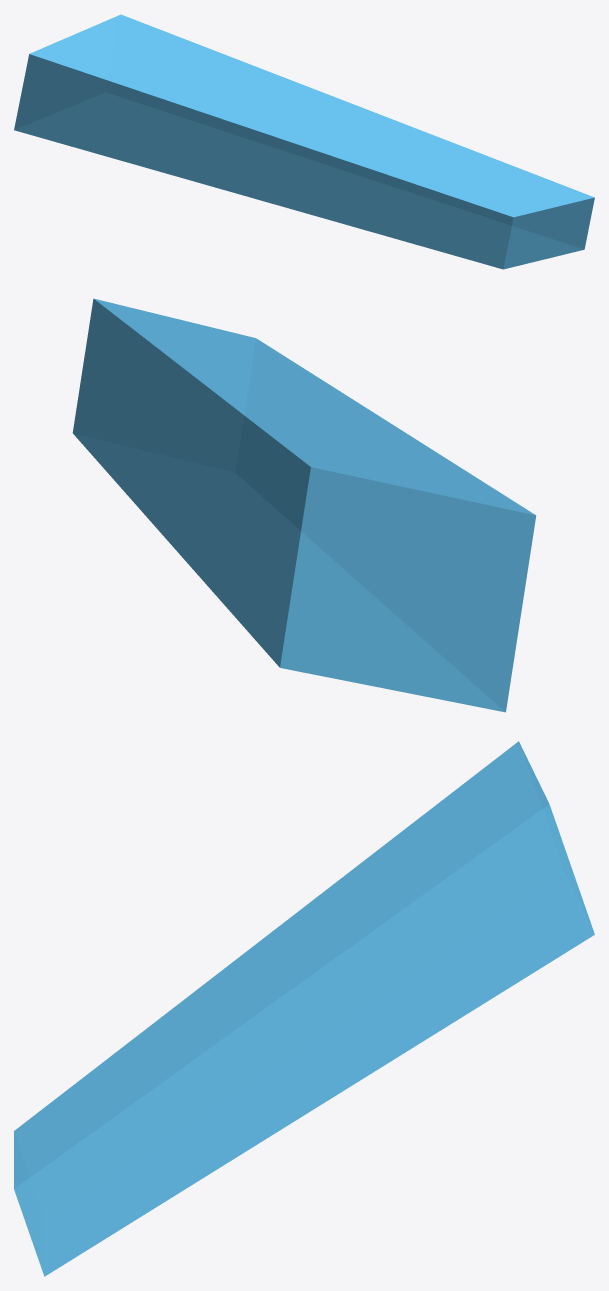
Rendered from Event_421115418_HBrechit_15.fbx.
3 views of the same model, one above another, from view 1: azimuth 30°, elevation 25°; view 2: azimuth 150°, elevation 25°; view 3: azimuth 270°, elevation 25° (orthographic). The views are drawn at different scales.
Visible parts, largest first — view 1: Model; view 2: Model; view 3: Model.
Part boxes in pixels (x1,y1,x2,y2): Model: [14, 14, 594, 269]; Model: [72, 298, 536, 712]; Model: [14, 741, 594, 1276].
Size of the model in its own units: 2.64 by 1.16 by 2.3.
